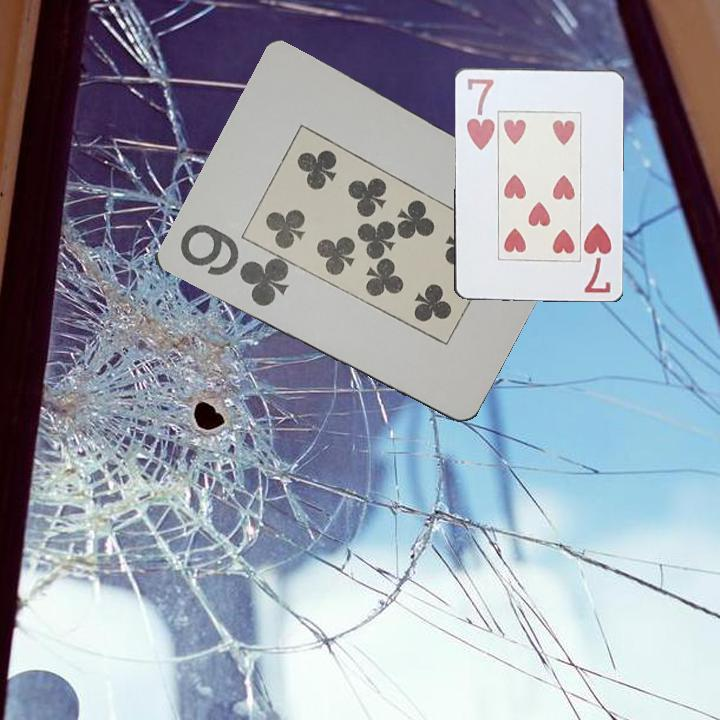7h: (580, 219, 614, 296), (463, 75, 496, 153)
9c: (175, 220, 292, 310)
